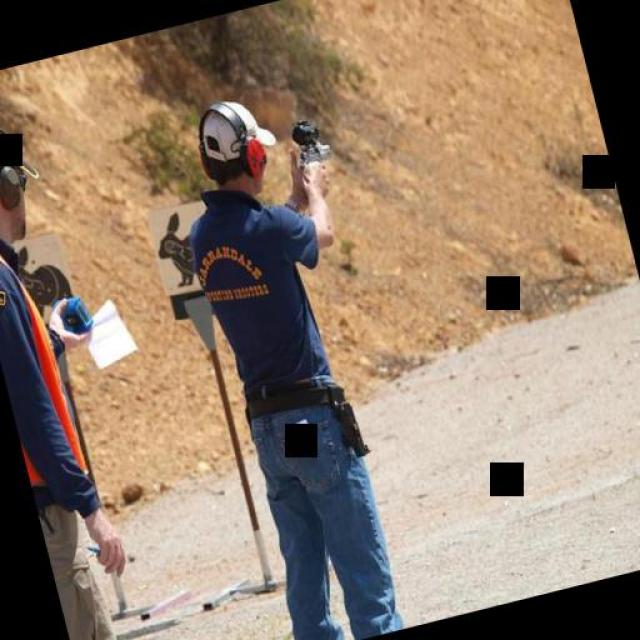gun: (284, 109, 342, 185)
